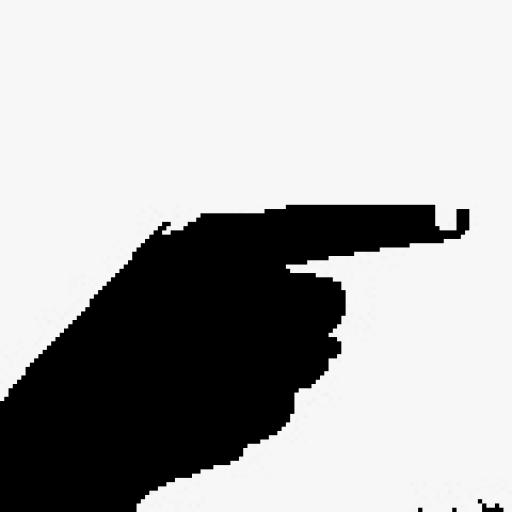index_left: (0, 199, 472, 412)
